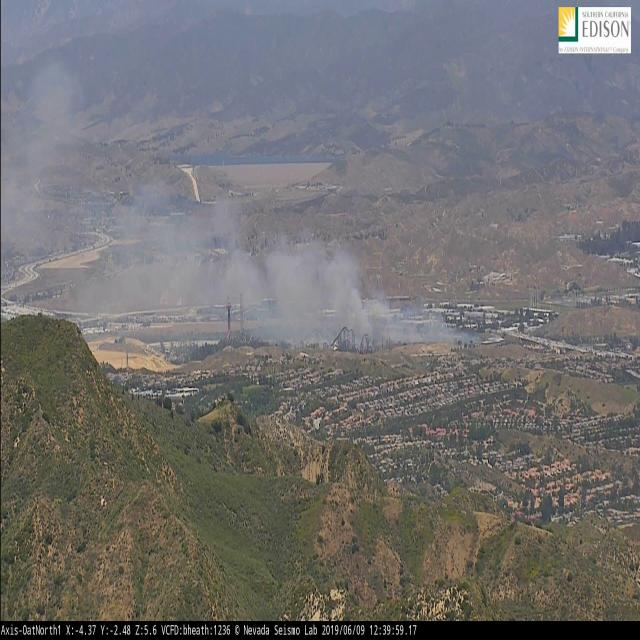smoke: (2, 56, 478, 354)
